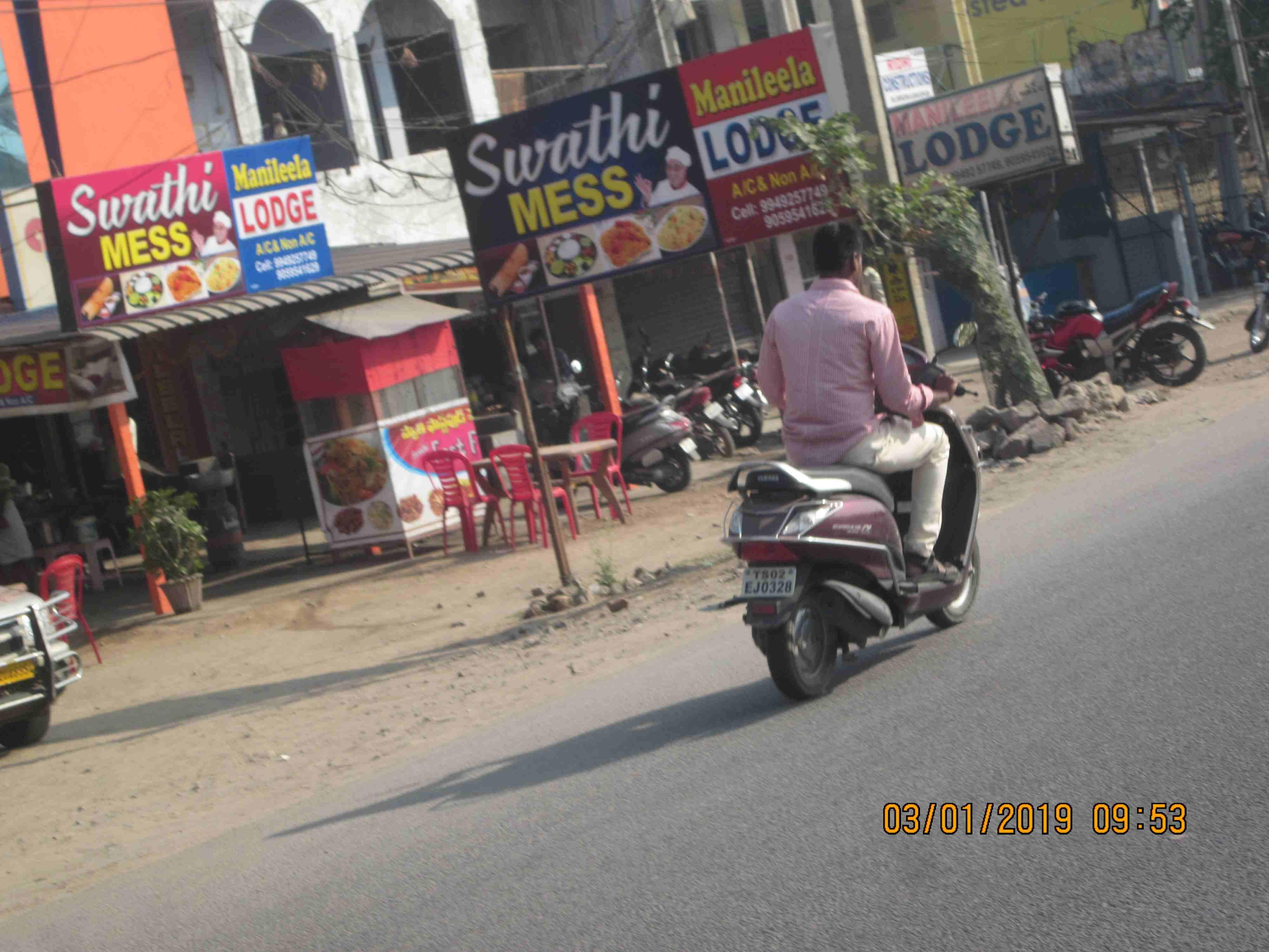plate: (735, 557, 808, 604)
